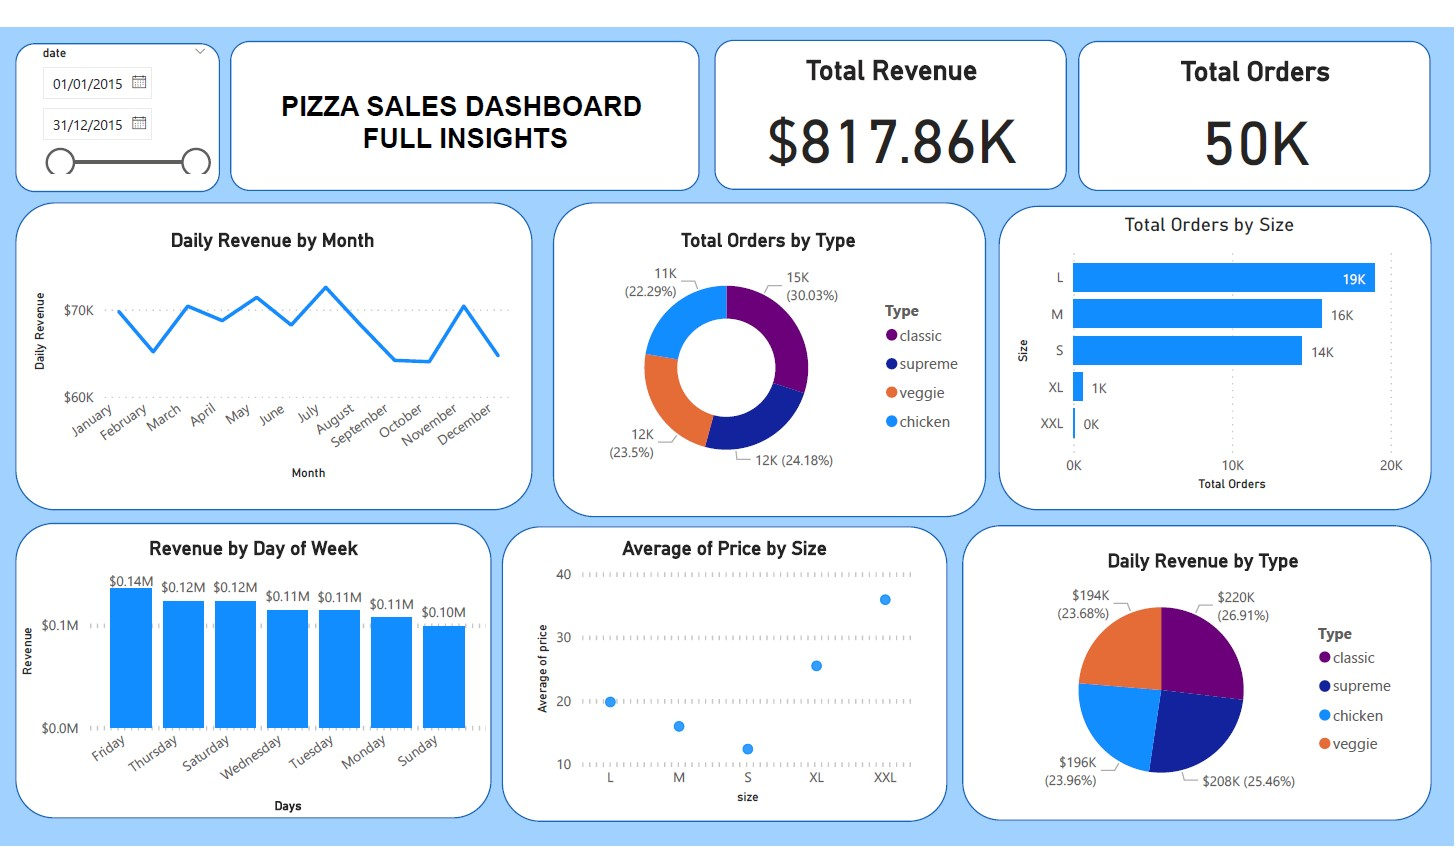

The page's visual inventory and layout, read from the dashboard file:
{"tool":"powerbi","page":{"name":"Page 1","canvas":[1280,720],"ordinal":0},"visuals":[{"type":"shape","box":[879.9,157.1,380.9,268.3],"z":0},{"type":"shape","box":[443.4,439.3,392,259.9],"z":1000},{"type":"shape","box":[629.7,11.1,310,132.1],"z":2000},{"type":"shape","box":[15.3,436.5,418.4,259.9],"z":3000},{"type":"shape","box":[204.3,12.3,412.7,131.6],"z":5000},{"type":"shape","box":[950.1,12.3,309.9,131.6],"z":6000},{"type":"shape","box":[487.9,154.3,380.9,276.6],"z":7000},{"type":"shape","box":[15.3,154.3,454.6,271.1],"z":8000},{"type":"lineChart","fields":{"Category":["pizzaplace (2).date.Variation.Date Hierarchy.Month","pizzaplace (2).date.Variation.Date Hierarchy.Day"],"Y":["pizzaplace (2).Daily Revenue"]},"box":[26.4,176.5,430.9,226.6],"z":9000},{"type":"barChart","title":"Total Orders by Size","fields":{"Category":["pizzaplace (2).size"],"Y":["pizzaplace (2).Total Orders"]},"box":[891.1,162.6,348.9,250.2],"z":10000},{"type":"card","title":"Total Revenue","fields":{"Values":["pizzaplace (2).Total Revenue"]},"box":[660.3,23.6,251.6,112.6],"z":11000},{"type":"textbox","box":[204.3,50.7,414.1,106.9],"z":12000},{"type":"donutChart","title":"Total Orders by Type","fields":{"Category":["pizzaplace (2).type"],"Y":["pizzaplace (2).Total Orders"]},"box":[496.3,176.5,362.8,226.6],"z":13000},{"type":"columnChart","title":"Revenue by Day of Week","fields":{"Category":["pizzaplace (2).Day of Week"],"Y":["pizzaplace (2).Revenue by Day"]},"box":[15.3,447.6,418.4,248.8],"z":14000},{"type":"scatterChart","title":"Average of Price by Size","fields":{"X":["pizzaplace (2).size"],"Y":["Avg(pizzaplace (2).price)"]},"box":[468.5,447.6,342,240.5],"z":16000},{"type":"shape","box":[15.3,13.9,179.3,130.7],"z":17000},{"type":"slicer","fields":{"Values":["pizzaplace (2).date"]},"box":[26.4,11.1,168.2,118.2],"z":18000},{"type":"card","title":"Total Orders","fields":{"Values":["pizzaplace (2).Total Orders"]},"box":[980,25,251.6,112.6],"z":19000},{"type":"shape","box":[848,437.9,412.9,259.9],"z":21001},{"type":"pieChart","title":"Daily Revenue by Type","fields":{"Category":["pizzaplace (2).type"],"Y":["pizzaplace (2).Daily Revenue"]},"box":[879.9,458.7,360,229.4],"z":21501}]}

Visuals, with their boxes on the page's 1280x720 design canvas (x1, y1, x2, y2). These are canvas units, not pixel positions in the 1456x850 screenshot, which may show the page scaled, cropped or inside an application window:
shape: Rect(880, 157, 1261, 425)
shape: Rect(443, 439, 835, 699)
shape: Rect(630, 11, 940, 143)
shape: Rect(15, 436, 434, 696)
shape: Rect(204, 12, 617, 144)
shape: Rect(950, 12, 1260, 144)
shape: Rect(488, 154, 869, 431)
shape: Rect(15, 154, 470, 425)
lineChart - pizzaplace (2).date.Variation.Date Hierarchy.Month x pizzaplace (2).date.Variation.Date Hierarchy.Day: Rect(26, 176, 457, 403)
"Total Orders by Size" barChart: Rect(891, 163, 1240, 413)
"Total Revenue" card: Rect(660, 24, 912, 136)
textbox: Rect(204, 51, 618, 158)
"Total Orders by Type" donutChart: Rect(496, 176, 859, 403)
"Revenue by Day of Week" columnChart: Rect(15, 448, 434, 696)
"Average of Price by Size" scatterChart: Rect(468, 448, 810, 688)
shape: Rect(15, 14, 195, 145)
slicer - pizzaplace (2).date: Rect(26, 11, 195, 129)
"Total Orders" card: Rect(980, 25, 1232, 138)
shape: Rect(848, 438, 1261, 698)
"Daily Revenue by Type" pieChart: Rect(880, 459, 1240, 688)
